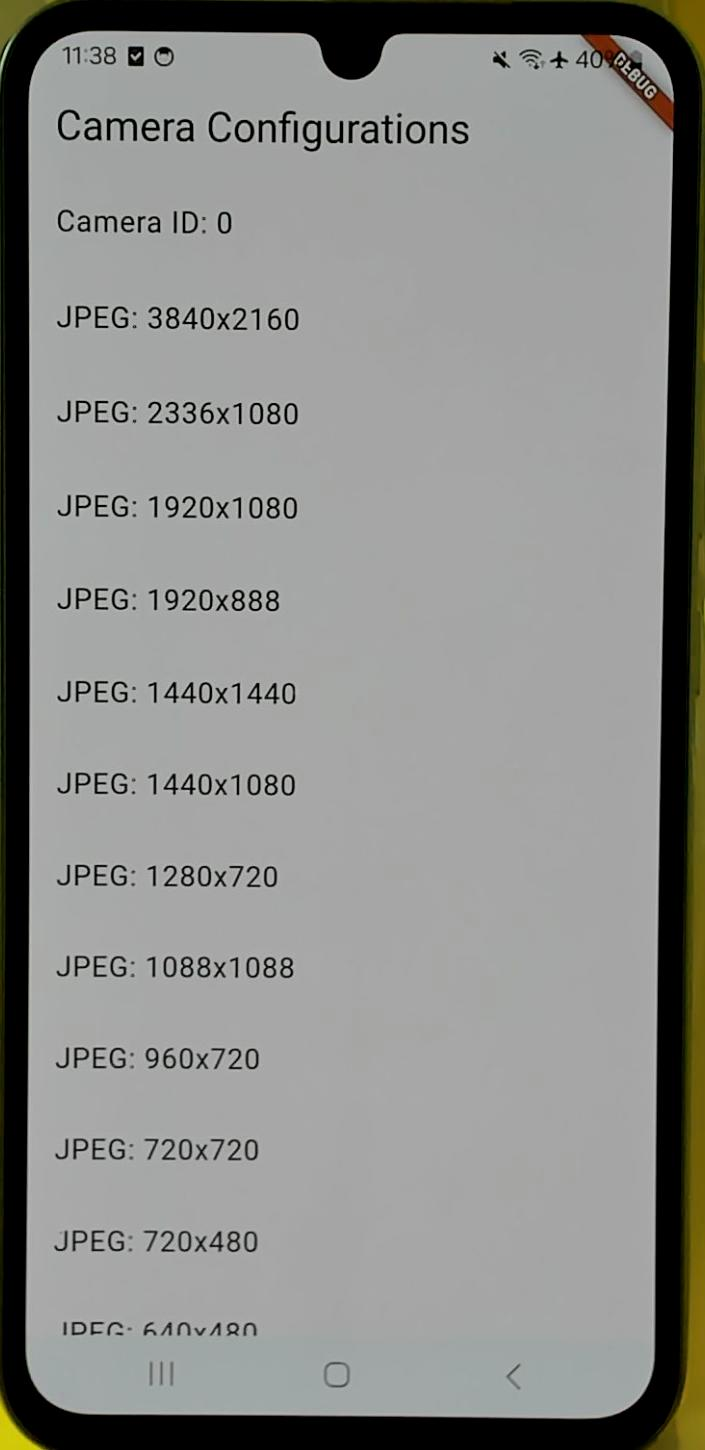CommunBotton: (318, 1350, 366, 1396), (144, 1346, 180, 1402), (504, 1356, 536, 1402)
